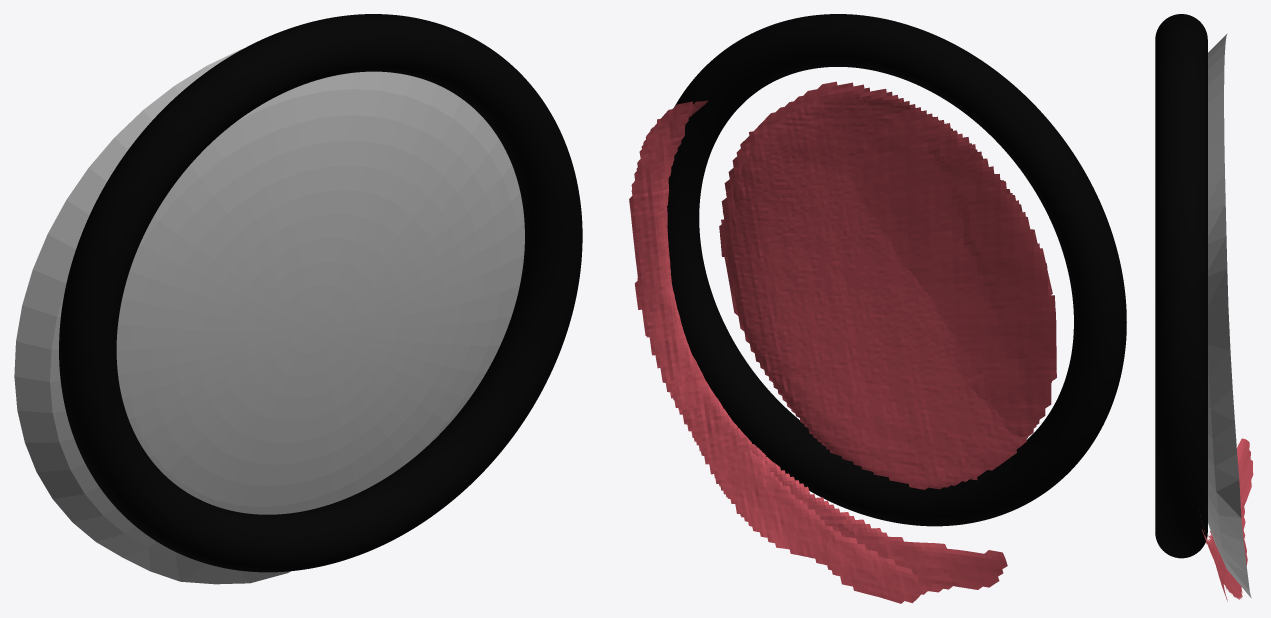
The model's file is G06_H2_FULL_HERO.glb.
3 views of the same model, side by side, from view 1: azimuth 30°, elevation 25°; view 2: azimuth 150°, elevation 25°; view 3: azimuth 270°, elevation 25° (orthographic). The views are drawn at different scales.
Parts seen in each view (by area): view 1: Body_A3, Ring; view 2: 004_G06_v004_raw00744, Ring, 004_G06_v004_raw00046; view 3: Ring, Body_A3, 004_G06_v004_raw00046, 004_G06_v004_raw00744.
Part boxes in pixels (bbox=[...]): Body_A3: bbox=[14, 48, 524, 584]; Ring: bbox=[59, 14, 582, 572]; 004_G06_v004_raw00744: bbox=[631, 97, 1052, 603]; Ring: bbox=[667, 14, 1126, 526]; 004_G06_v004_raw00046: bbox=[629, 81, 1056, 594]; Ring: bbox=[1155, 14, 1207, 558]; Body_A3: bbox=[1208, 33, 1251, 598]; 004_G06_v004_raw00046: bbox=[1205, 438, 1253, 601]; 004_G06_v004_raw00744: bbox=[1200, 515, 1247, 599].
Size of the model in its own units: 0.0131 by 0.0137 by 0.00231.
